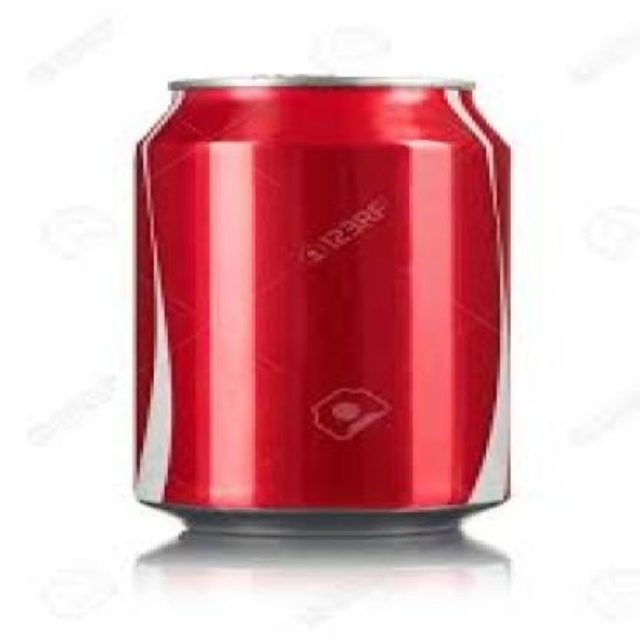trash: (135, 75, 508, 532)
